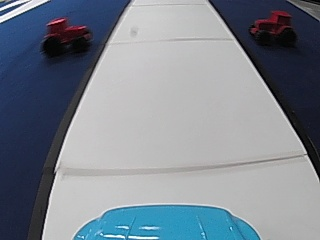tractor: (40, 15, 91, 57), (248, 8, 295, 47)
